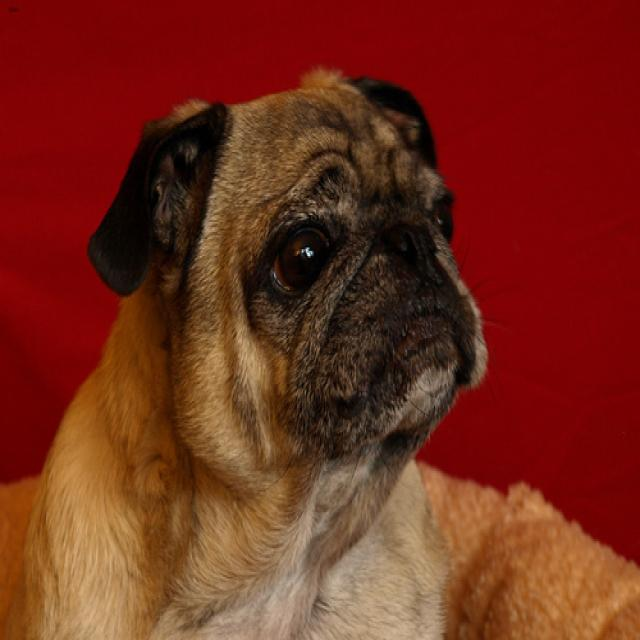dog: (85, 69, 488, 462)
